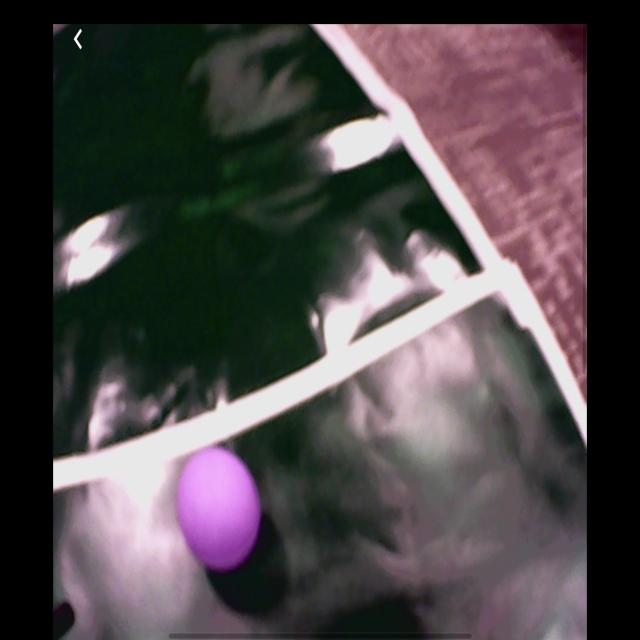ball: (176, 445, 263, 574)
